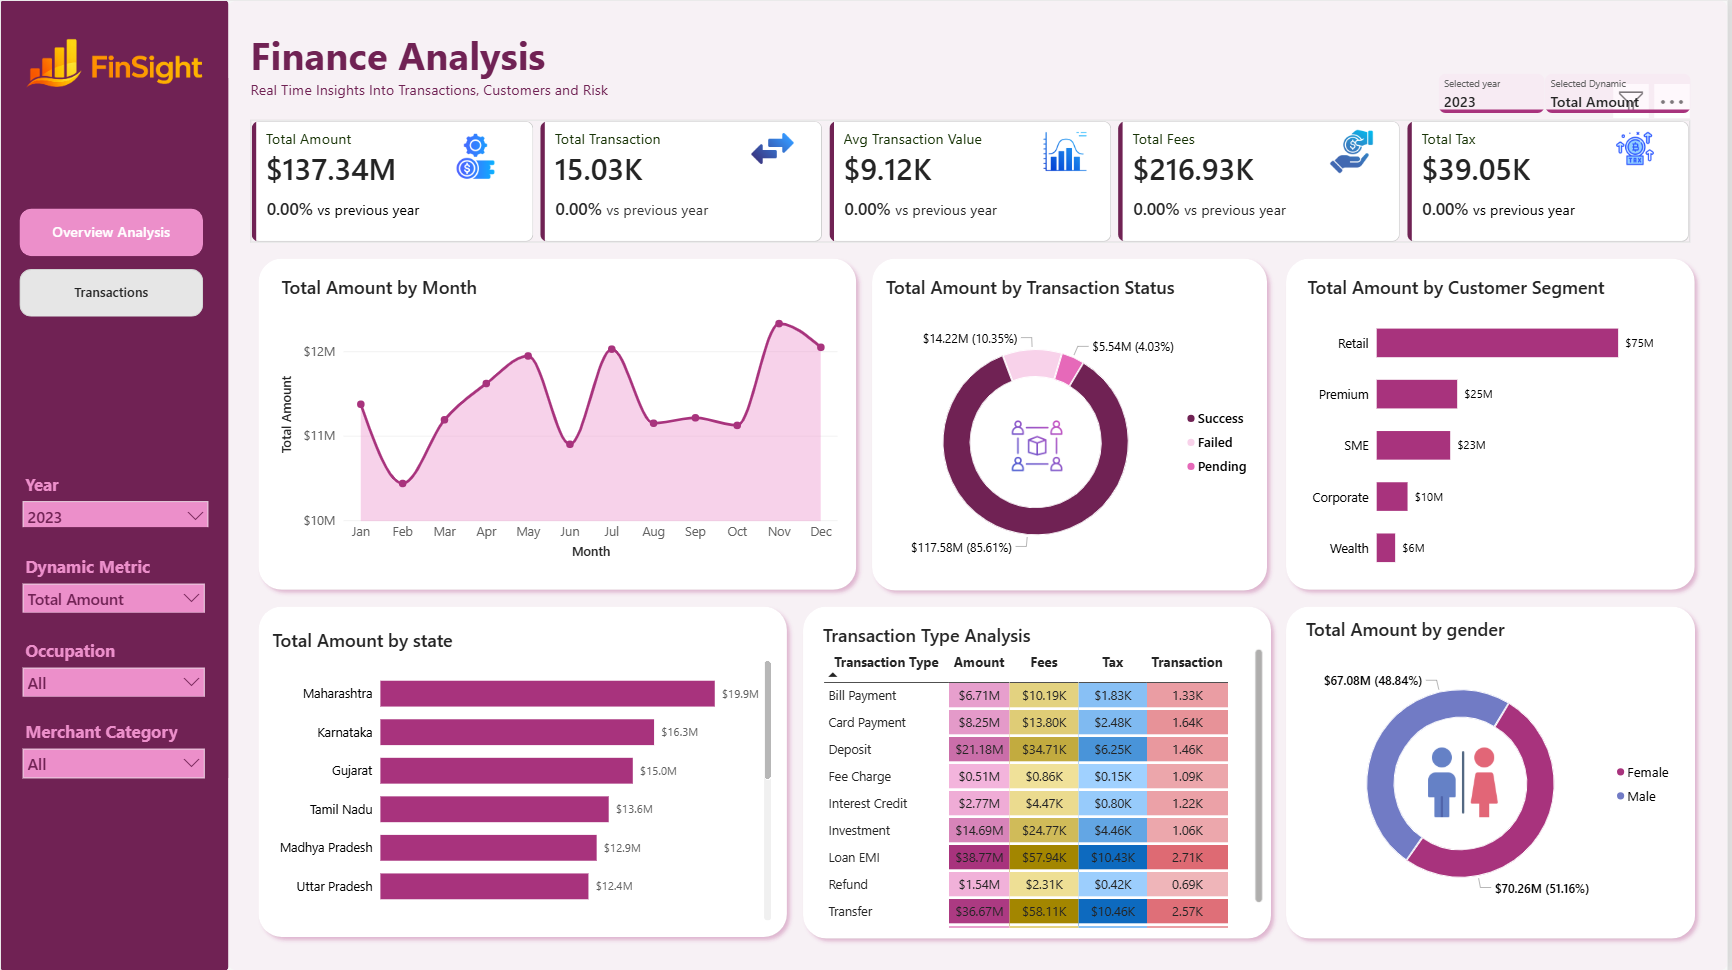

Layout of this report page (visuals, bound fields, positions):
{"tool":"powerbi","page":{"name":"Overview Analysis","canvas":[1920,1080],"ordinal":0},"visuals":[{"type":"shape","box":[0,0,254,1080],"z":0},{"type":"shape","title":"Transaction Type Analysis","box":[253.3,0,1666.7,1080],"z":1000},{"type":"image","box":[22,26,216,88],"z":2000},{"type":"cardVisual","fields":{"Data":["finance_transactions.Total Amount","finance_transactions.Total Transaction","finance_transactions.Avg Transaction Value","finance_transactions.Total Fees","finance_transactions.Total Tax"]},"box":[278,134,1600,136],"z":3000},{"type":"slicer","fields":{"Values":["Calendar Table.Year"]},"box":[19.8,524.8,216.4,60.8],"z":4000},{"type":"textbox","box":[278,32,450,82],"z":5000},{"type":"image","box":[503.3,142.8,50,60],"z":6000},{"type":"image","box":[1158.3,142.8,50,50],"z":8000},{"type":"image","box":[1791.7,139.4,50,50],"z":10000},{"type":"image","box":[833.3,139.4,50,50],"z":12000},{"type":"image","box":[1476.7,142.8,50,50],"z":14000},{"type":"slicer","fields":{"Values":["Dynamic Metric.Dynamic Metric"]},"box":[20,617.3,212,64],"z":15000},{"type":"shape","box":[278,278,682,386],"z":16000},{"type":"areaChart","fields":{"Category":["Calendar Table.Month"],"Y":["finance_transactions.Total Amount"]},"box":[296,292,650,346],"z":17000},{"type":"cardVisual","fields":{"Data":["finance_transactions.Selected year"]},"box":[1598,82,118,44],"z":18000},{"type":"cardVisual","fields":{"Data":["finance_transactions.Selected Dynamic measure"]},"box":[1716,82,162,44],"z":19000},{"type":"shape","box":[960.5,277.5,456.8,386.7],"z":20000},{"type":"donutChart","fields":{"Category":["finance_transactions.transaction_status"],"Y":["finance_transactions.Total Amount"]},"box":[968.3,291.6,442.8,372.7],"z":21000},{"type":"shape","box":[1420,278,472,386],"z":22000},{"type":"clusteredBarChart","fields":{"Category":["customers.customer_segment"],"Y":["finance_transactions.Total Amount"]},"box":[1436,292,428,374],"z":23000},{"type":"shape","box":[277.5,664.2,605,385.1],"z":24000},{"type":"clusteredBarChart","fields":{"Category":["customers.state"],"Y":["finance_transactions.Total Amount"]},"box":[286.9,682.9,586.3,355.5],"z":25000},{"type":"shape","box":[882.5,665.8,537.9,386.7],"z":26000},{"type":"tableEx","title":"Transaction Type Analysis","fields":{"Values":["finance_transactions.transaction_type","finance_transactions.Total Amount","finance_transactions.Total Fees","finance_transactions.Total Tax","finance_transactions.Total Transaction"]},"box":[898.1,678.3,520.8,368],"z":27000},{"type":"shape","box":[1420.4,665.8,472.4,386.7],"z":28000},{"type":"donutChart","fields":{"Category":["customers.gender"],"Y":["finance_transactions.Total Amount"]},"box":[1434.5,672,444.4,371.1],"z":29000},{"type":"image","box":[1573.2,824.8,104.5,88.9],"z":29500},{"type":"image","box":[1113.3,464.6,78,60.8],"z":30000},{"type":"slicer","fields":{"Values":["customers.occupation"]},"box":[20,709.3,212,64],"z":30001},{"type":"slicer","fields":{"Values":["finance_transactions.merchant_category"]},"box":[20.7,800.7,212,66],"z":30002},{"type":"pageNavigator","box":[22,232,204,120],"z":30003}]}

Visuals, with their boxes on the page's 1920x1080 design canvas (x1, y1, x2, y2). These are canvas units, not pixel positions in the 1732x970 screenshot, which may show the page scaled, cropped or inside an application window:
shape: left=0, top=0, right=254, bottom=1080
"Transaction Type Analysis" shape: left=253, top=0, right=1920, bottom=1080
image: left=22, top=26, right=238, bottom=114
cardVisual - finance_transactions.Total Amount x finance_transactions.Total Transaction: left=278, top=134, right=1878, bottom=270
slicer - Calendar Table.Year: left=20, top=525, right=236, bottom=586
textbox: left=278, top=32, right=728, bottom=114
image: left=503, top=143, right=553, bottom=203
image: left=1158, top=143, right=1208, bottom=193
image: left=1792, top=139, right=1842, bottom=189
image: left=833, top=139, right=883, bottom=189
image: left=1477, top=143, right=1527, bottom=193
slicer - Dynamic Metric.Dynamic Metric: left=20, top=617, right=232, bottom=681
shape: left=278, top=278, right=960, bottom=664
areaChart - Calendar Table.Month x finance_transactions.Total Amount: left=296, top=292, right=946, bottom=638
cardVisual - finance_transactions.Selected year: left=1598, top=82, right=1716, bottom=126
cardVisual - finance_transactions.Selected Dynamic measure: left=1716, top=82, right=1878, bottom=126
shape: left=960, top=278, right=1417, bottom=664
donutChart - finance_transactions.transaction_status x finance_transactions.Total Amount: left=968, top=292, right=1411, bottom=664
shape: left=1420, top=278, right=1892, bottom=664
clusteredBarChart - customers.customer_segment x finance_transactions.Total Amount: left=1436, top=292, right=1864, bottom=666
shape: left=278, top=664, right=882, bottom=1049
clusteredBarChart - customers.state x finance_transactions.Total Amount: left=287, top=683, right=873, bottom=1038
shape: left=882, top=666, right=1420, bottom=1052
"Transaction Type Analysis" tableEx: left=898, top=678, right=1419, bottom=1046
shape: left=1420, top=666, right=1893, bottom=1052
donutChart - customers.gender x finance_transactions.Total Amount: left=1434, top=672, right=1879, bottom=1043
image: left=1573, top=825, right=1678, bottom=914
image: left=1113, top=465, right=1191, bottom=525
slicer - customers.occupation: left=20, top=709, right=232, bottom=773
slicer - finance_transactions.merchant_category: left=21, top=801, right=233, bottom=867
pageNavigator: left=22, top=232, right=226, bottom=352
